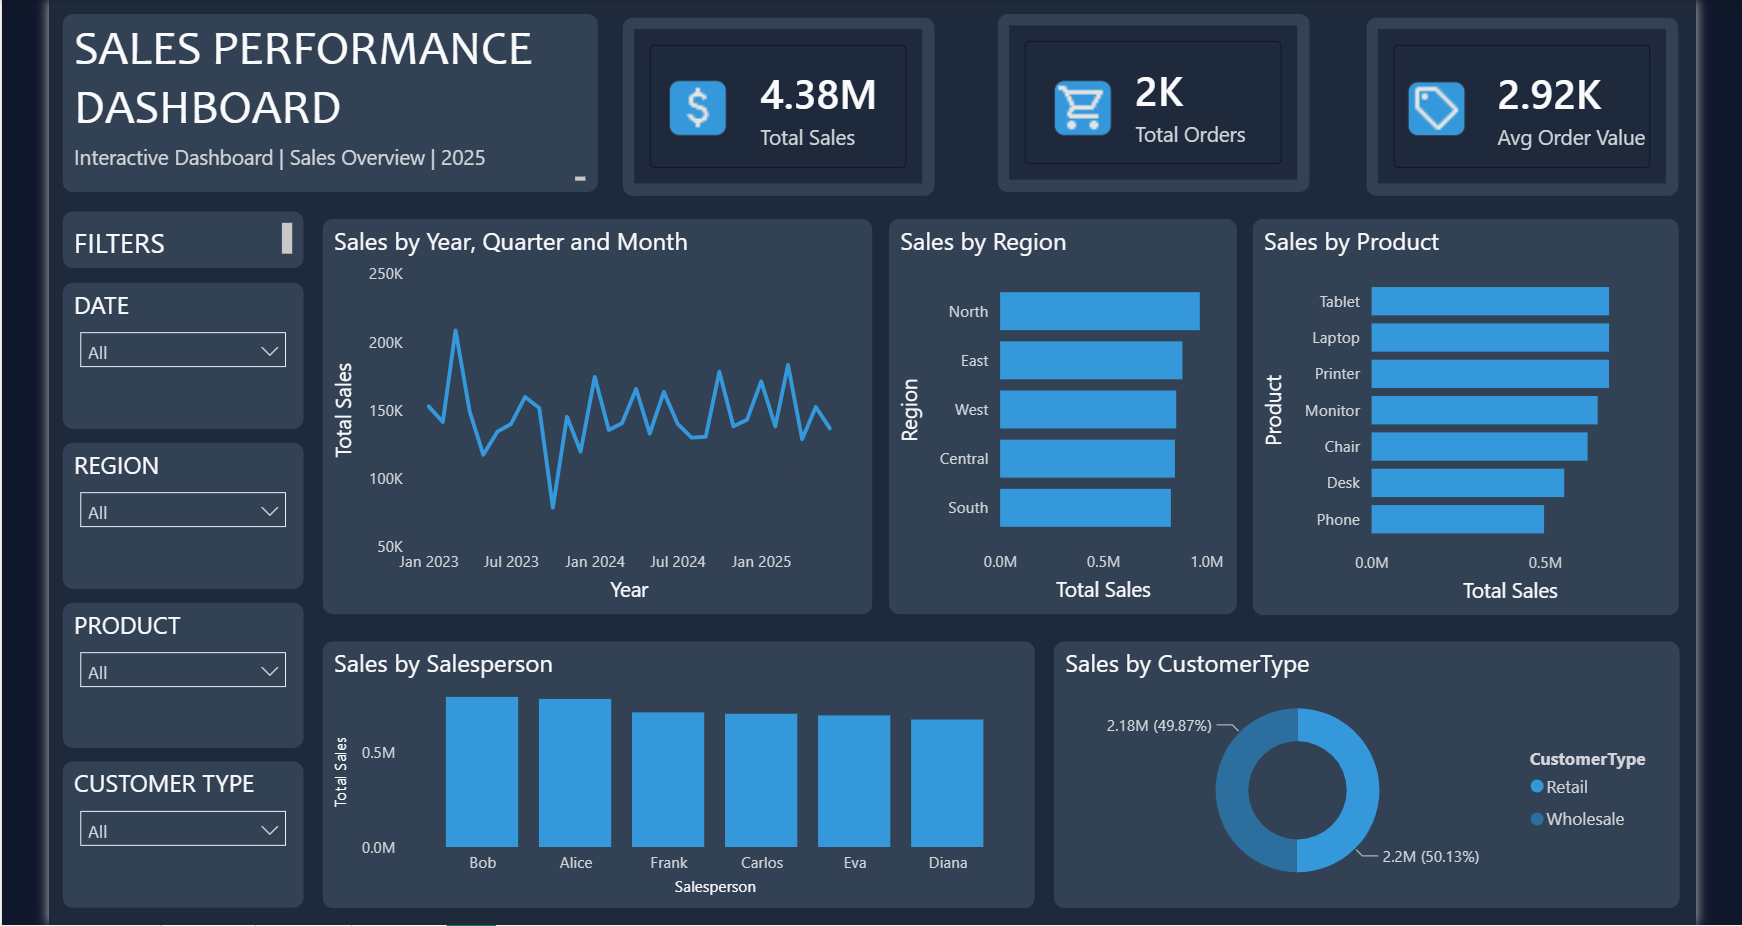

Layout of this report page (visuals, bound fields, positions):
{"tool":"powerbi","page":{"name":"Page 1","canvas":[1280,720],"ordinal":0},"visuals":[{"type":"textbox","title":"SALES PERFORMANCE DASHBOARD","box":[10.3,11.3,415.8,138.6],"z":0},{"type":"cardVisual","fields":{"Data":["Sheet1.Total Orders"]},"box":[738.1,11.3,242.3,138.6],"z":1000},{"type":"cardVisual","fields":{"Data":["Sheet1.Average Order Value"]},"box":[1024.6,14.4,242.3,138.6],"z":1000,"group":"g1"},{"type":"lineChart","title":"Sales by Year, Quarter and Month","fields":{"Y":["Sheet1.Total Sales"],"Category":["Sheet1.OrderDate.Variation.Date Hierarchy.Year","Sheet1.OrderDate.Variation.Date Hierarchy.Quarter","Sheet1.OrderDate.Variation.Date Hierarchy.Month"]},"box":[212.5,171.2,427.5,307.5],"z":2000},{"type":"cardVisual","fields":{"Data":["Sheet1.Total Sales"]},"box":[446.6,14.4,242.3,138.6],"z":3000},{"type":"clusteredBarChart","title":"Sales by Region","fields":{"Category":["Sheet1.Region"],"Y":["Sheet1.Total Sales"]},"box":[653.1,171.2,270,307.5],"z":4000},{"type":"donutChart","title":"Sales by CustomerType","fields":{"Category":["Sheet1.CustomerType"],"Y":["Sheet1.Total Sales"]},"box":[781.4,500,486,207],"z":5000},{"type":"barChart","title":"Sales by Product","fields":{"Category":["Sheet1.Product"],"Y":["Sheet1.Total Sales"]},"box":[936,170.9,331.4,308.1],"z":6000},{"type":"columnChart","title":"Sales by Salesperson","fields":{"Category":["Sheet1.Salesperson"],"Y":["Sheet1.Total Sales"]},"box":[212.8,500,553.5,207],"z":7000},{"type":"slicer","title":"DATE","fields":{"Values":["Sheet1.OrderDate"]},"box":[10.5,220.9,187.2,114],"z":8000},{"type":"slicer","title":"CUSTOMER TYPE","fields":{"Values":["Sheet1.CustomerType"]},"box":[10.5,593,187.2,114],"z":9000},{"type":"slicer","title":"REGION","fields":{"Values":["Sheet1.Region"]},"box":[10.5,345.3,187.2,114],"z":10000},{"type":"slicer","title":"PRODUCT","fields":{"Values":["Sheet1.Product"]},"box":[10.5,469.8,187.2,112.8],"z":11000},{"type":"group","id":"g1","title":"Group 1","box":[1024.6,14.4,242.3,138.6],"z":13000},{"type":"image","box":[482.5,63.7,45.2,43.1],"z":14000},{"type":"image","box":[781.3,63.7,45.2,43.1],"z":15000},{"type":"image","box":[1056.4,63.7,45.2,42.1],"z":15001,"group":"g1"},{"type":"textbox","box":[10.5,165.1,187.2,44.2],"z":16000}]}

Visuals, with their boxes on the page's 1280x720 design canvas (x1, y1, x2, y2). These are canvas units, not pixel positions in the 1742x926 screenshot, which may show the page scaled, cropped or inside an application window:
"SALES PERFORMANCE DASHBOARD" textbox: [10,11,426,150]
cardVisual - Sheet1.Total Orders: [738,11,980,150]
cardVisual - Sheet1.Average Order Value: [1025,14,1267,153]
"Sales by Year, Quarter and Month" lineChart: [212,171,640,479]
cardVisual - Sheet1.Total Sales: [447,14,689,153]
"Sales by Region" clusteredBarChart: [653,171,923,479]
"Sales by CustomerType" donutChart: [781,500,1267,707]
"Sales by Product" barChart: [936,171,1267,479]
"Sales by Salesperson" columnChart: [213,500,766,707]
"DATE" slicer: [10,221,198,335]
"CUSTOMER TYPE" slicer: [10,593,198,707]
"REGION" slicer: [10,345,198,459]
"PRODUCT" slicer: [10,470,198,583]
"Group 1" group: [1025,14,1267,153]
image: [482,64,528,107]
image: [781,64,826,107]
image: [1056,64,1102,106]
textbox: [10,165,198,209]
